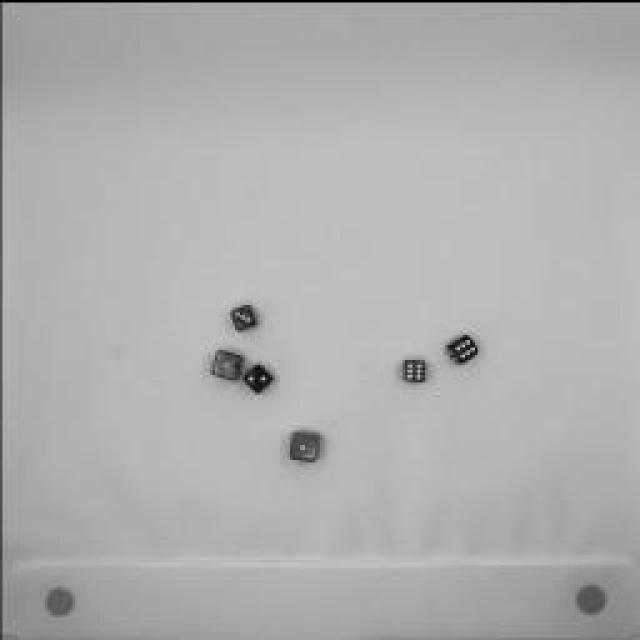dice_1: (280, 422, 325, 468), (207, 341, 245, 384)
dice_2: (240, 358, 278, 398)
dice_3: (224, 296, 261, 334)
dice_6: (441, 329, 481, 369), (395, 349, 433, 386)
